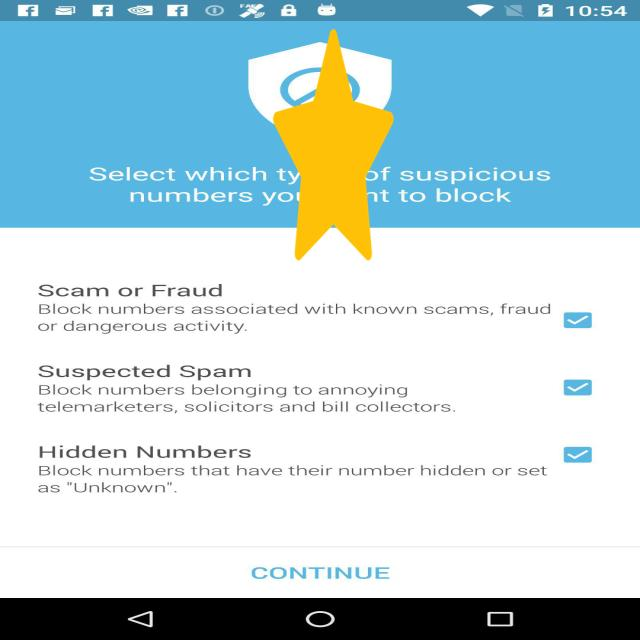forced continuity: (273, 29, 394, 261)
